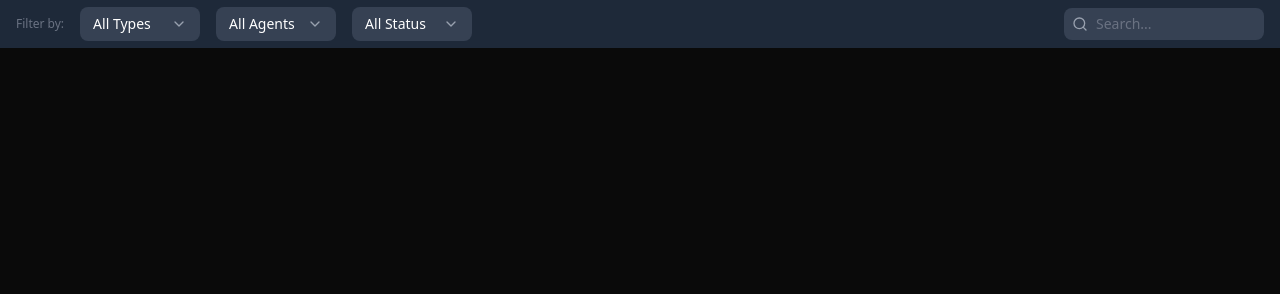
it: Filter Keyboard Shortcuts (Item 011) › Escape closes open dropdown menus › should close status dropdown when Escape is pressed
# Open status dropdown
Click the button with test id "status-filter-dropdown" at (412, 24), box [352,7,472,41]
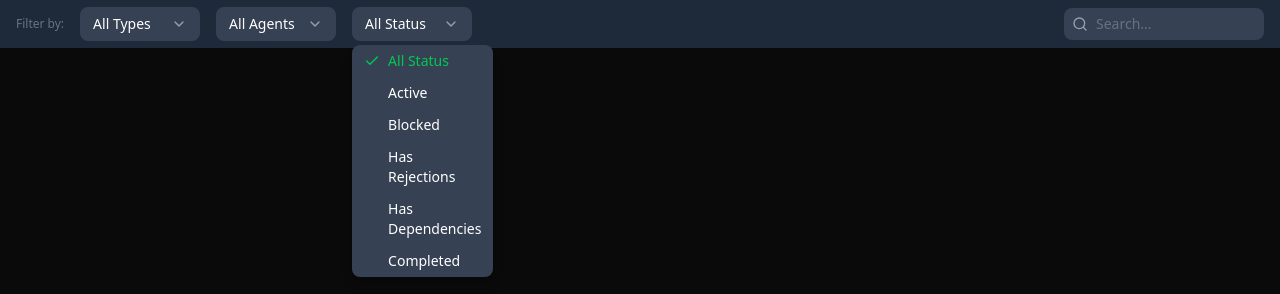
Expected: the option "Active" is shown, [388,83,427,102]
# Press Escape
Press Escape
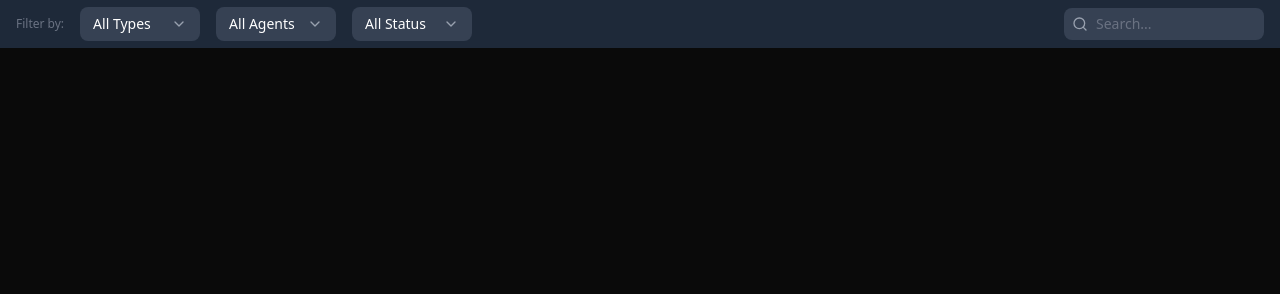
Expected: the option "Active" is gone
